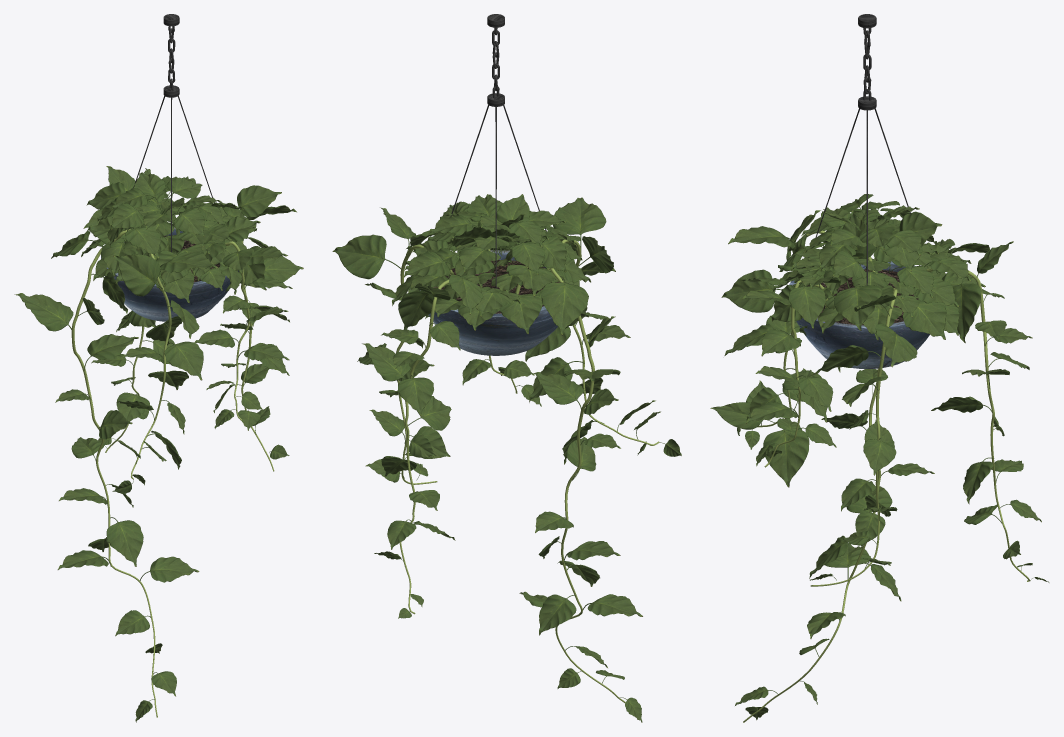
Rendered from house_plants_hanging_pot.glb.
The picture shows the model from 3 angles, left to right: view 1: azimuth 30°, elevation 25°; view 2: azimuth 150°, elevation 25°; view 3: azimuth 270°, elevation 25°; orthographic projection. The views are drawn at different scales.
Parts seen in each view (by area): view 1: Plant hanging N050922; view 2: Plant hanging N050922; view 3: Plant hanging N050922.
Part boxes in pixels (x1,y1,x2,y2): Plant hanging N050922: (14, 14, 303, 722); Plant hanging N050922: (332, 14, 681, 722); Plant hanging N050922: (710, 14, 1049, 722).
Size of the model in its own units: 9.28 by 22.12 by 9.09.
Materials: 5 (5 with a texture image).
